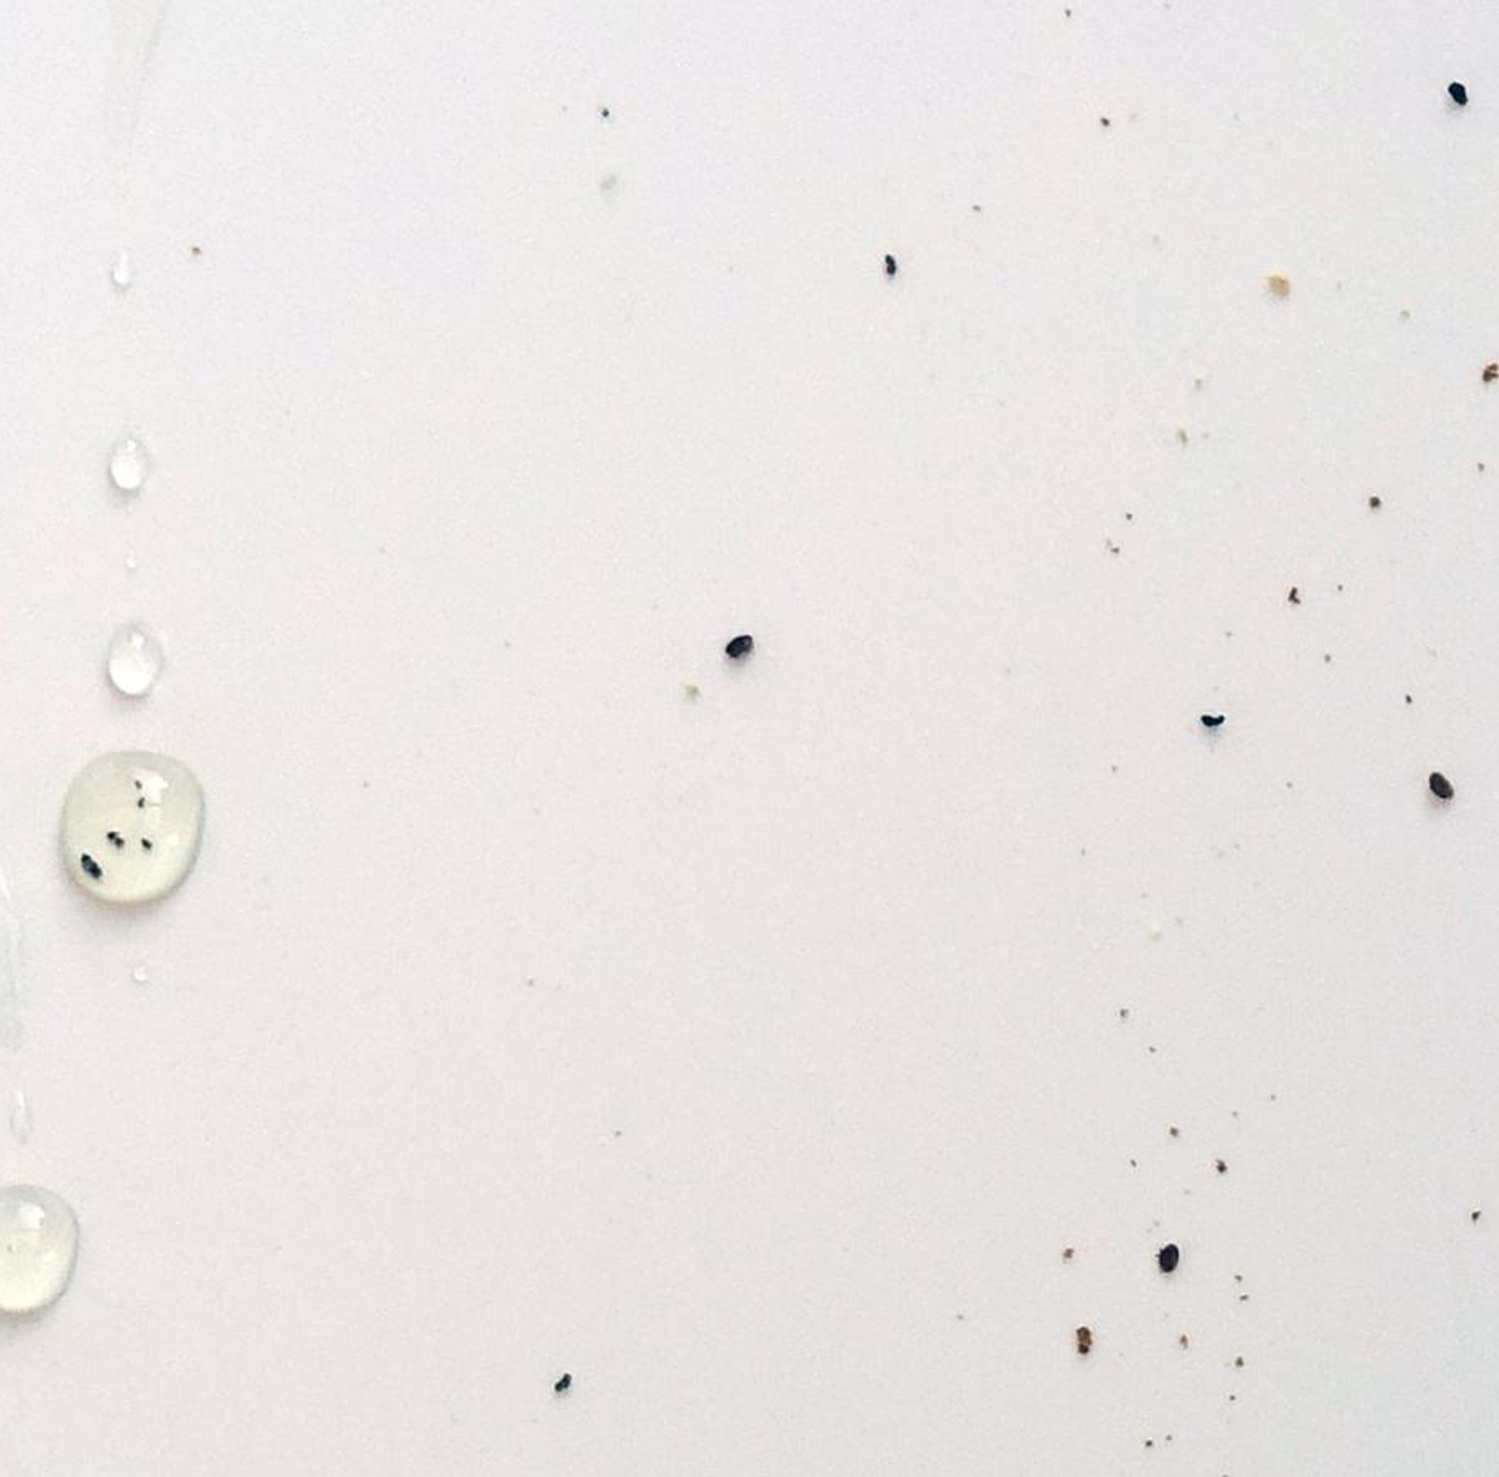Varroa: (729, 632, 758, 657), (1430, 774, 1456, 799), (1158, 1244, 1184, 1267)
